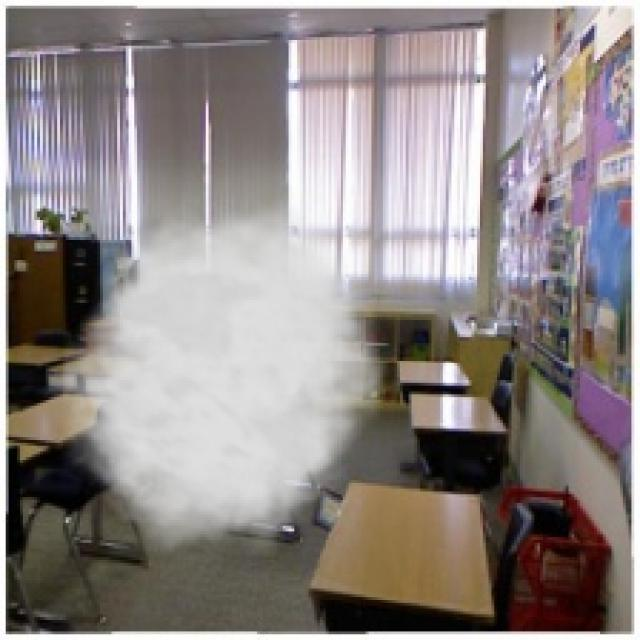Smoke: (42, 192, 398, 557)
